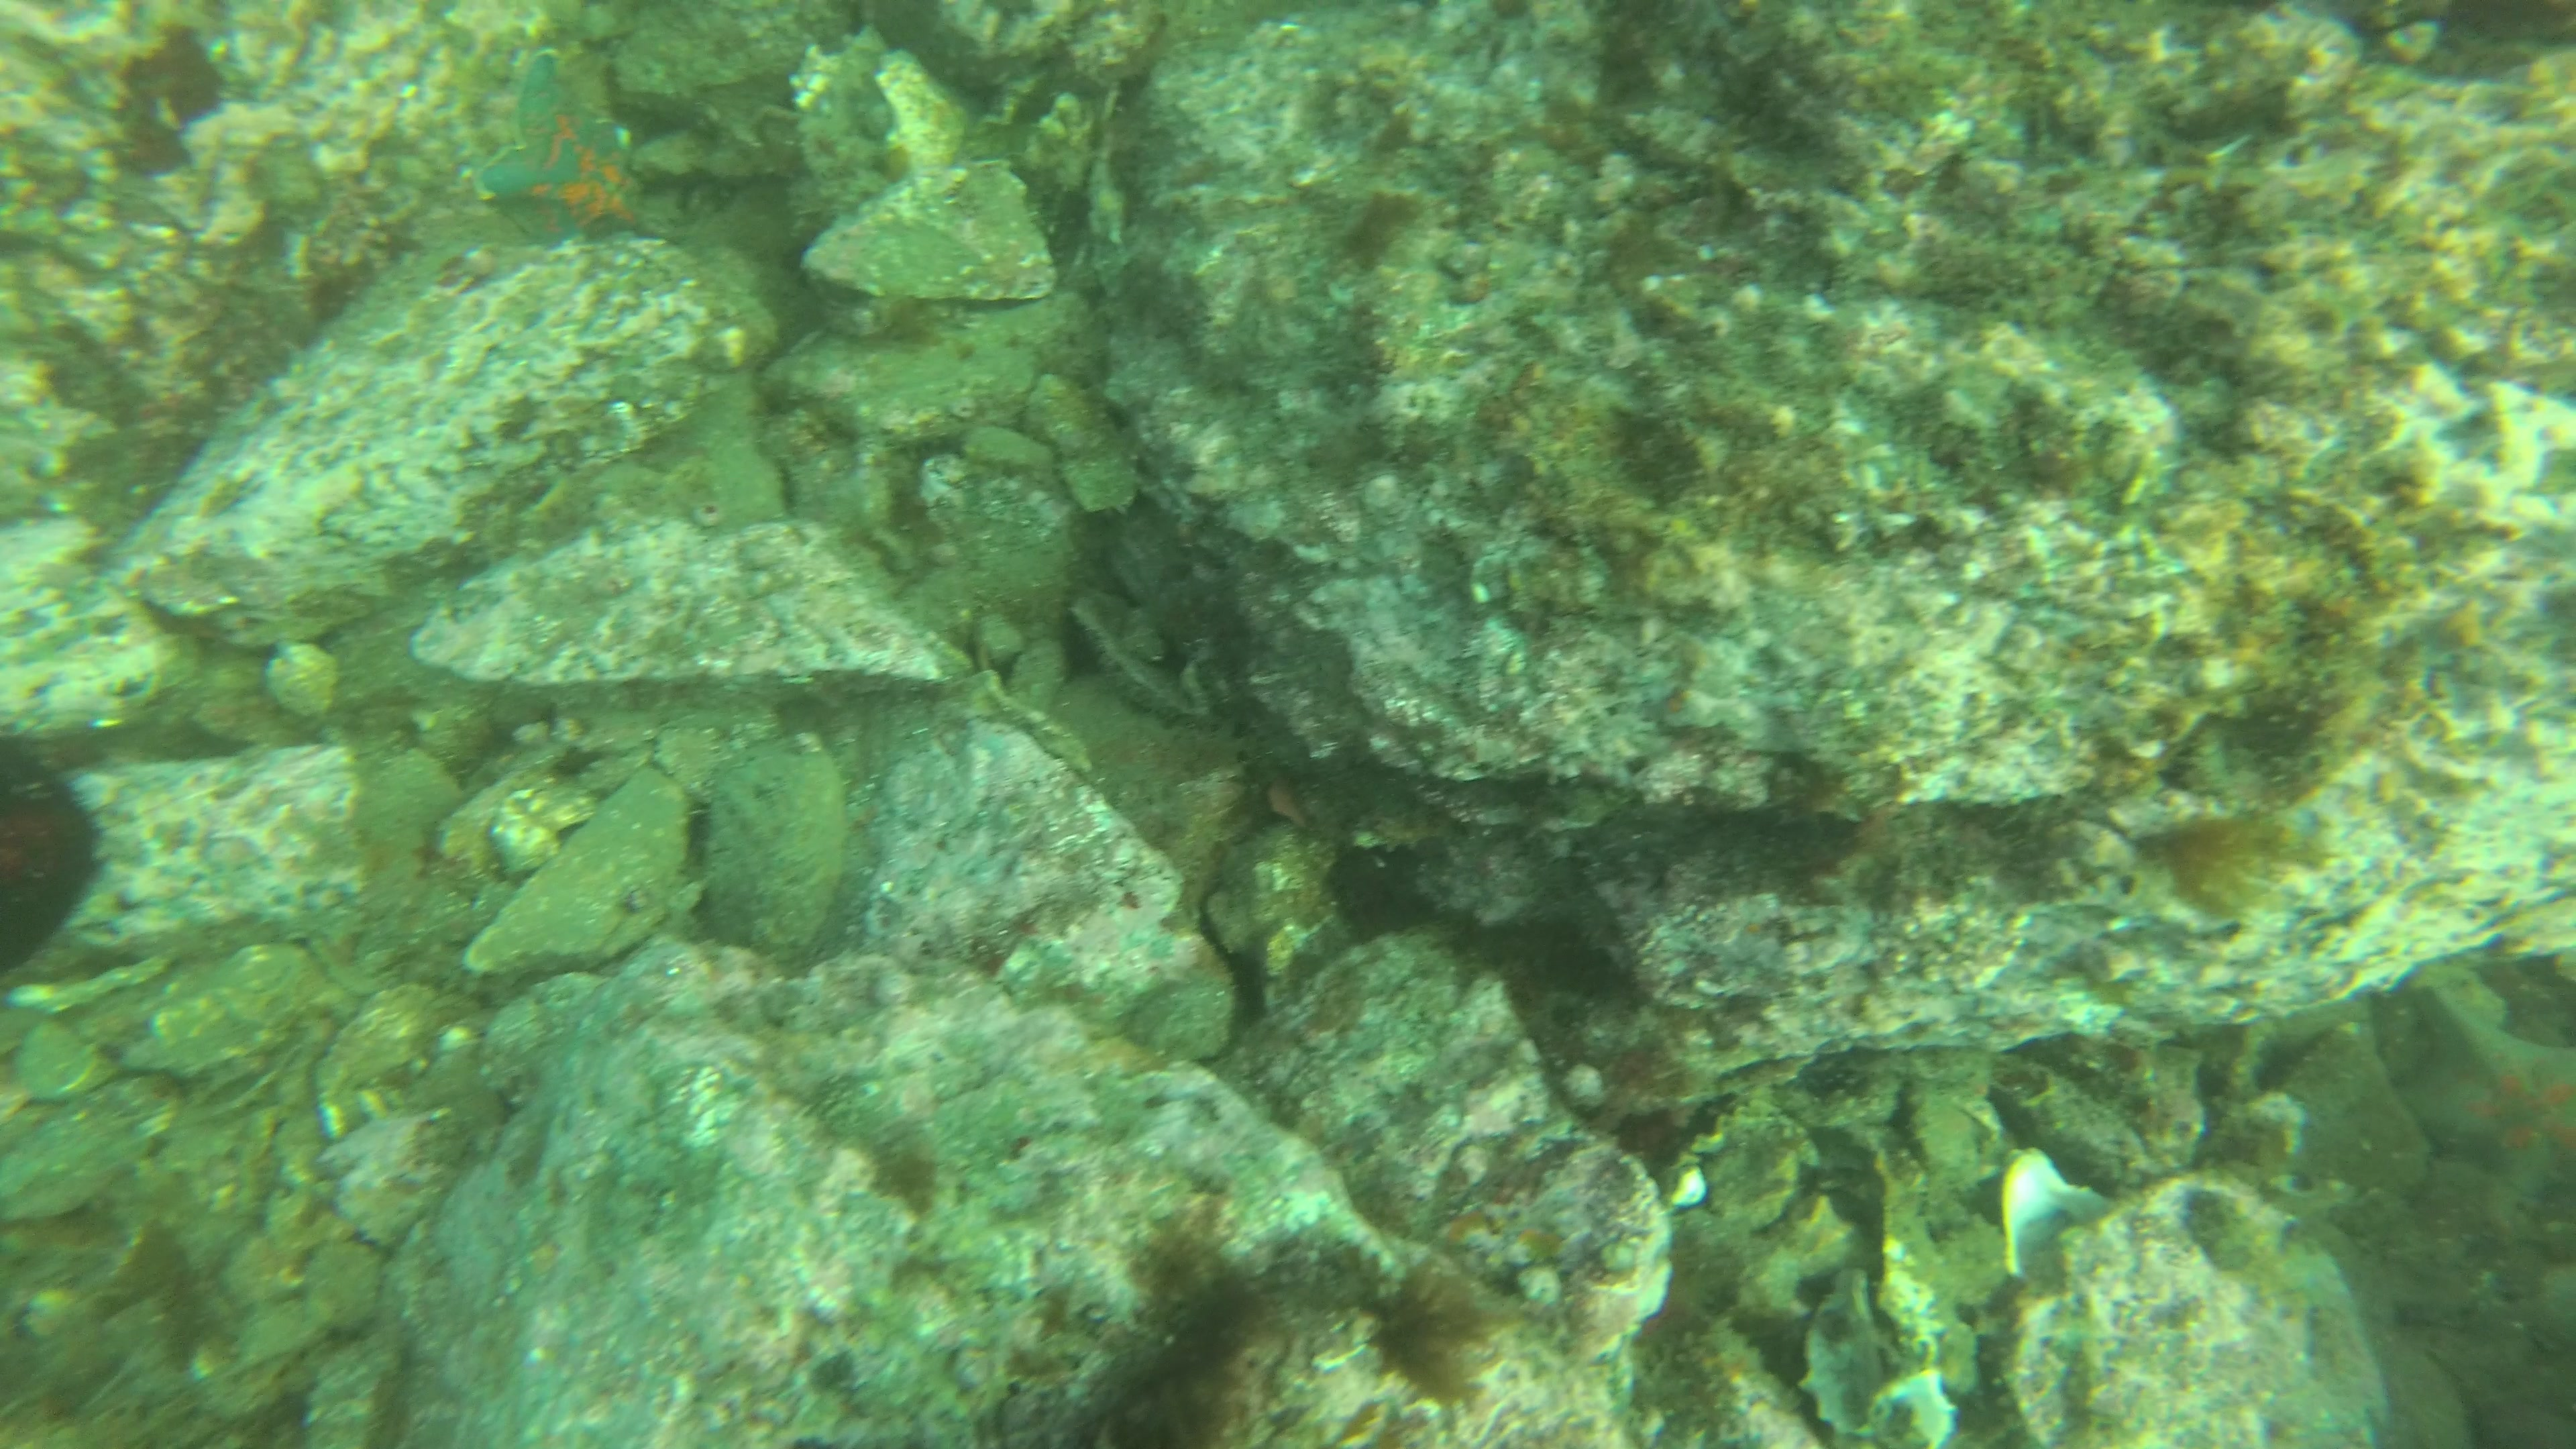starfish: (458, 55, 660, 258)
